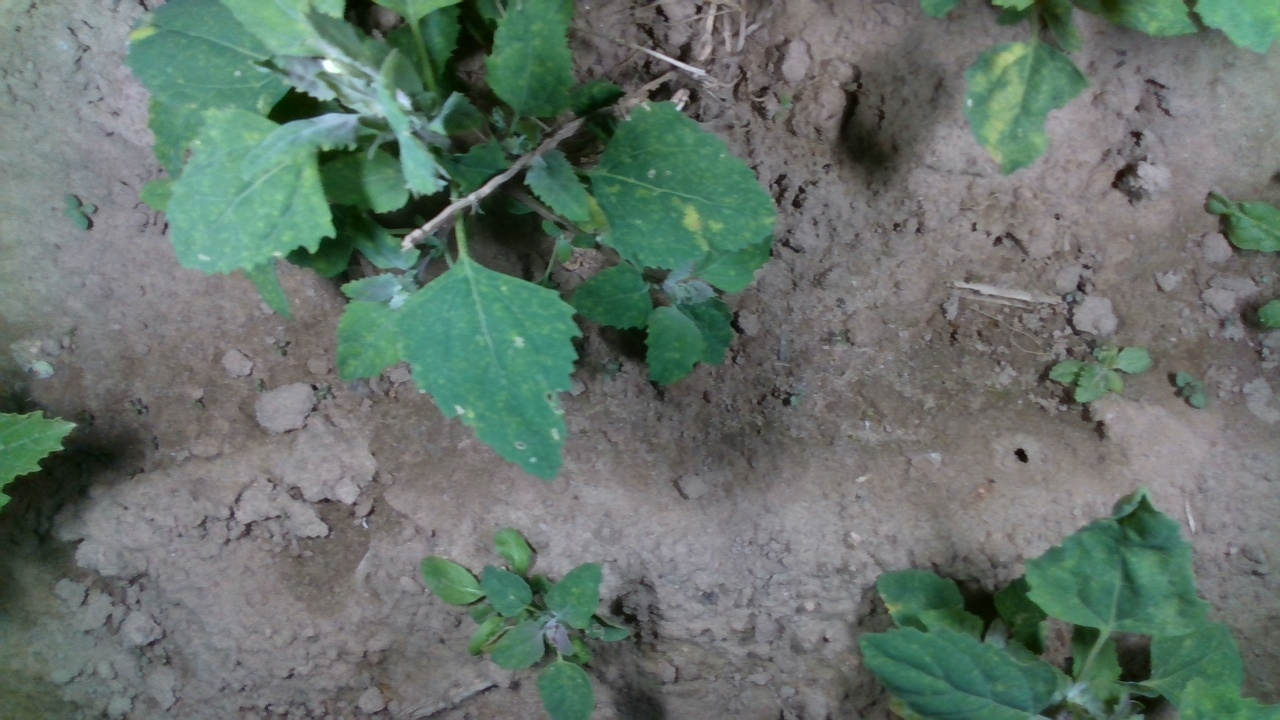weed: (1046, 339, 1158, 405), (1174, 367, 1208, 411), (60, 190, 93, 231)
